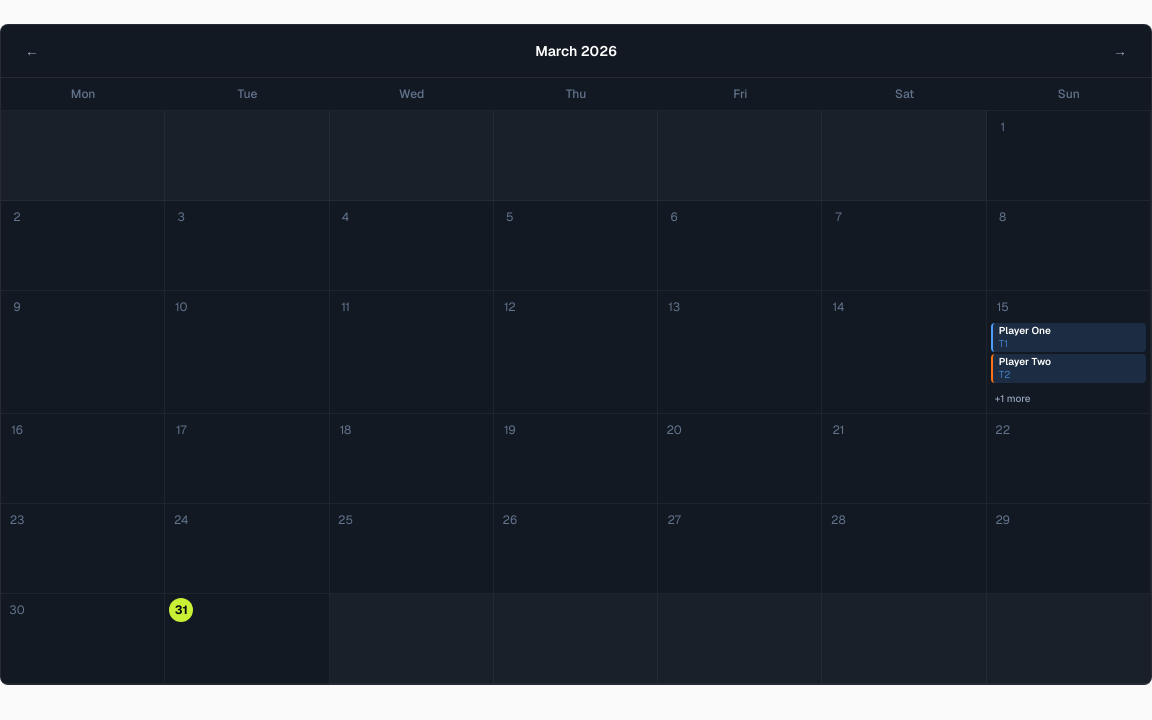
it: CalendarView — unassign actions › popover shows View links for all sessions
This screenshot has width=1152, height=720.
Click the button "+1 more": click(1068, 398) left=991, top=389, right=1146, bottom=408
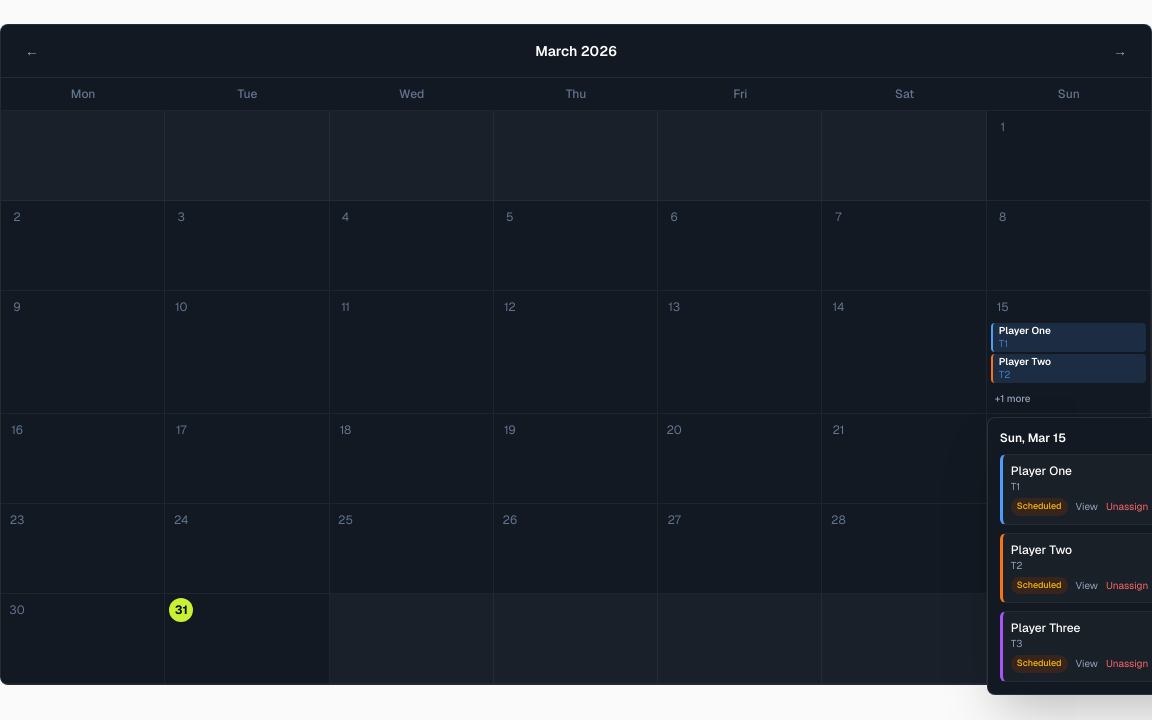
Check: the number of links "View" is 3, box left=1076, top=499, right=1098, bottom=514; left=1076, top=578, right=1098, bottom=593; left=1076, top=656, right=1098, bottom=671
